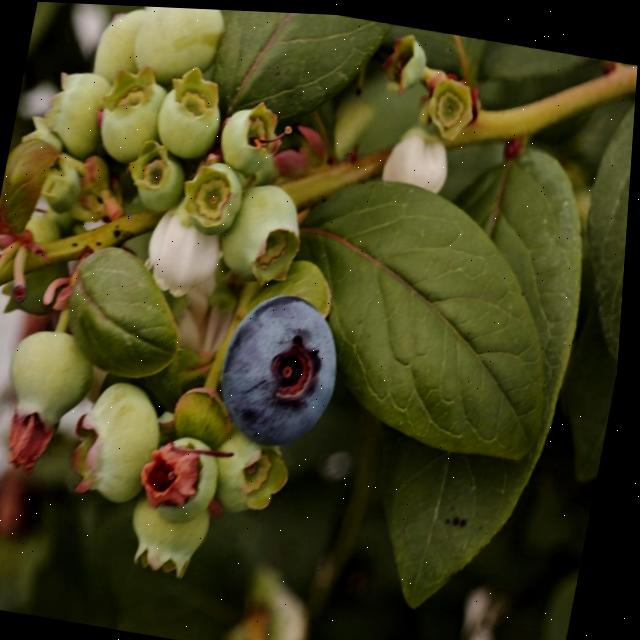RipeBlueBerry: (212, 281, 357, 453)
UnripeBlueBerry: (66, 374, 176, 509), (3, 321, 101, 440), (217, 175, 311, 288), (130, 488, 224, 580), (143, 426, 230, 525), (92, 63, 172, 169), (148, 66, 233, 163), (126, 5, 228, 85), (42, 66, 116, 161)
